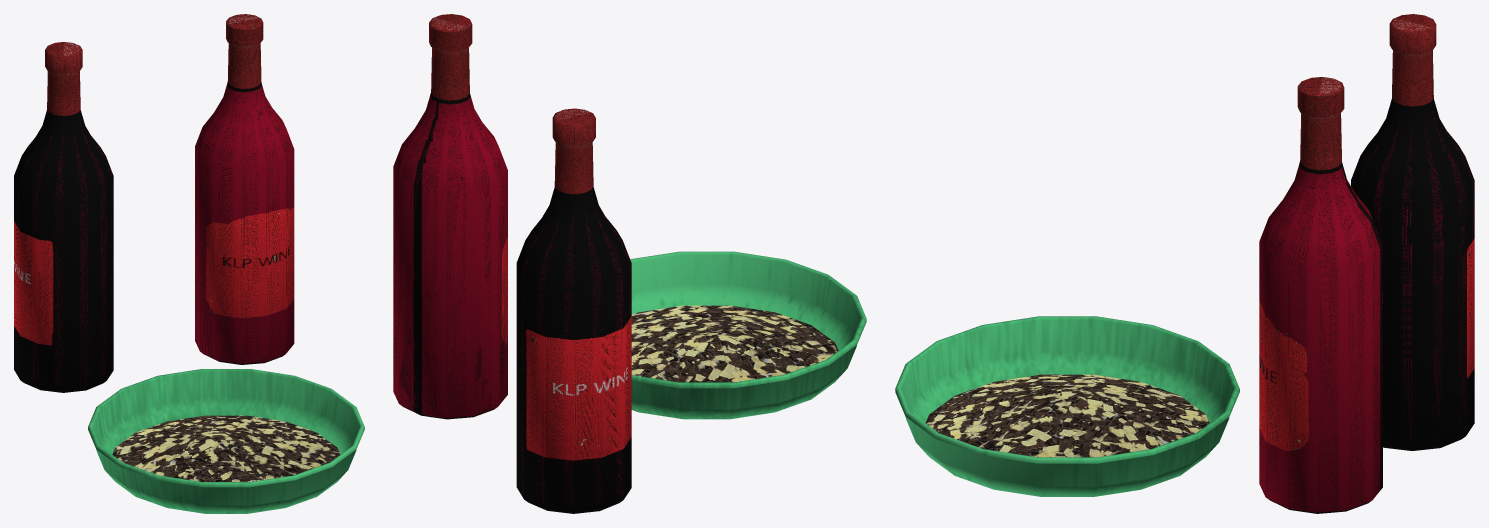
File: Food.fbx
3 views of the same model, side by side, from view 1: azimuth 30°, elevation 25°; view 2: azimuth 150°, elevation 25°; view 3: azimuth 270°, elevation 25° (orthographic). The views are drawn at different scales.
Parts seen in each view (by area): view 1: Group1, bottl_b1, bottl_a1; view 2: bottl_b1, bottl_a1, Group1; view 3: Group1, bottl_a1, bottl_b1.
Part boxes in pixels (<box>): Group1: <box>88,369,364,513</box>; bottl_b1: <box>14,42,113,392</box>; bottl_a1: <box>195,14,294,364</box>; bottl_b1: <box>516,108,631,513</box>; bottl_a1: <box>393,14,507,419</box>; Group1: <box>630,251,866,419</box>; Group1: <box>895,316,1239,496</box>; bottl_a1: <box>1259,77,1382,513</box>; bottl_b1: <box>1351,14,1474,450</box>.
Bounding box in the file's own units: 13.8 × 16.16 × 19.79.
